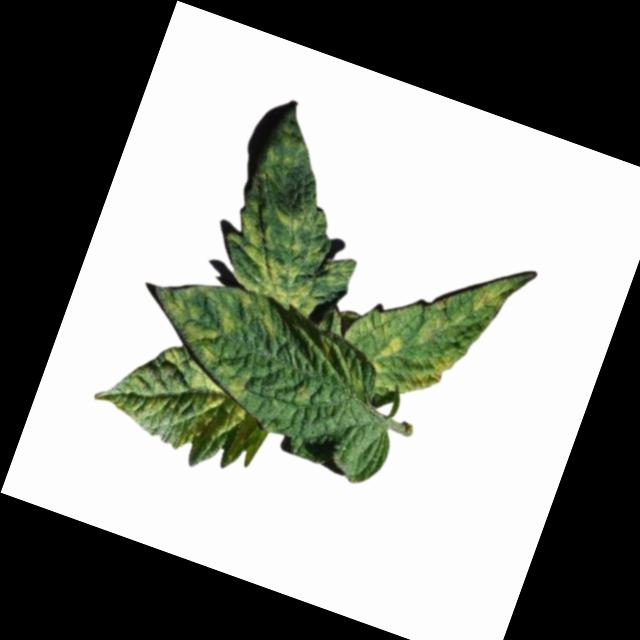Leaf_Mold: (87, 331, 281, 481), (204, 188, 367, 328), (128, 259, 283, 380), (403, 251, 515, 363), (391, 334, 460, 409), (360, 318, 408, 379)
